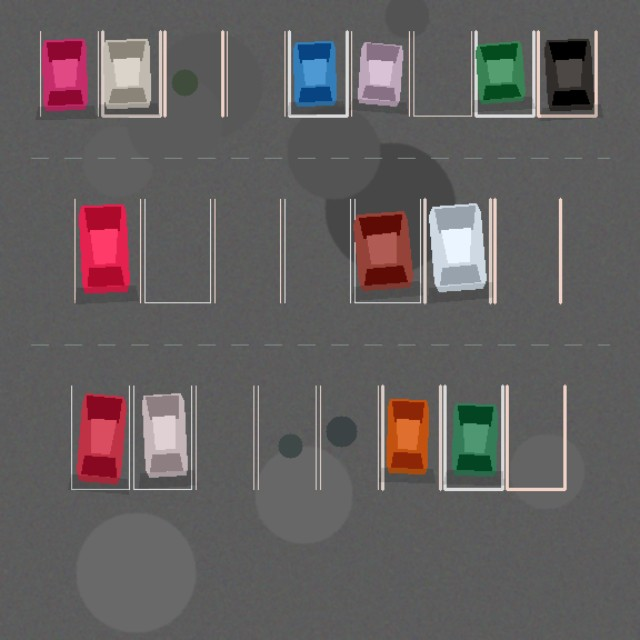space-empty: (144, 199, 210, 302), (214, 199, 280, 302), (284, 199, 350, 302), (494, 199, 560, 302), (258, 386, 316, 489), (320, 386, 378, 489), (196, 386, 253, 489), (507, 386, 564, 489), (164, 31, 222, 116), (413, 31, 471, 116), (227, 31, 284, 116)
space-occupied: (74, 199, 140, 302), (354, 199, 420, 302), (424, 199, 490, 302), (71, 386, 129, 489), (133, 386, 191, 489), (382, 386, 440, 489), (444, 386, 502, 489), (40, 31, 98, 116), (102, 31, 160, 116), (289, 31, 347, 116), (351, 31, 409, 116), (538, 31, 596, 116), (476, 31, 533, 116)
